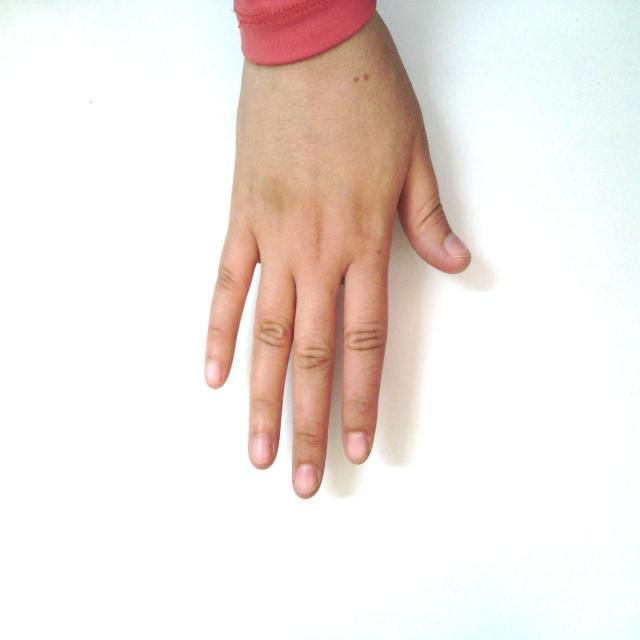Fingernail: (346, 432, 367, 462), (295, 465, 316, 494), (445, 232, 468, 258), (252, 436, 273, 464), (206, 361, 221, 384)
